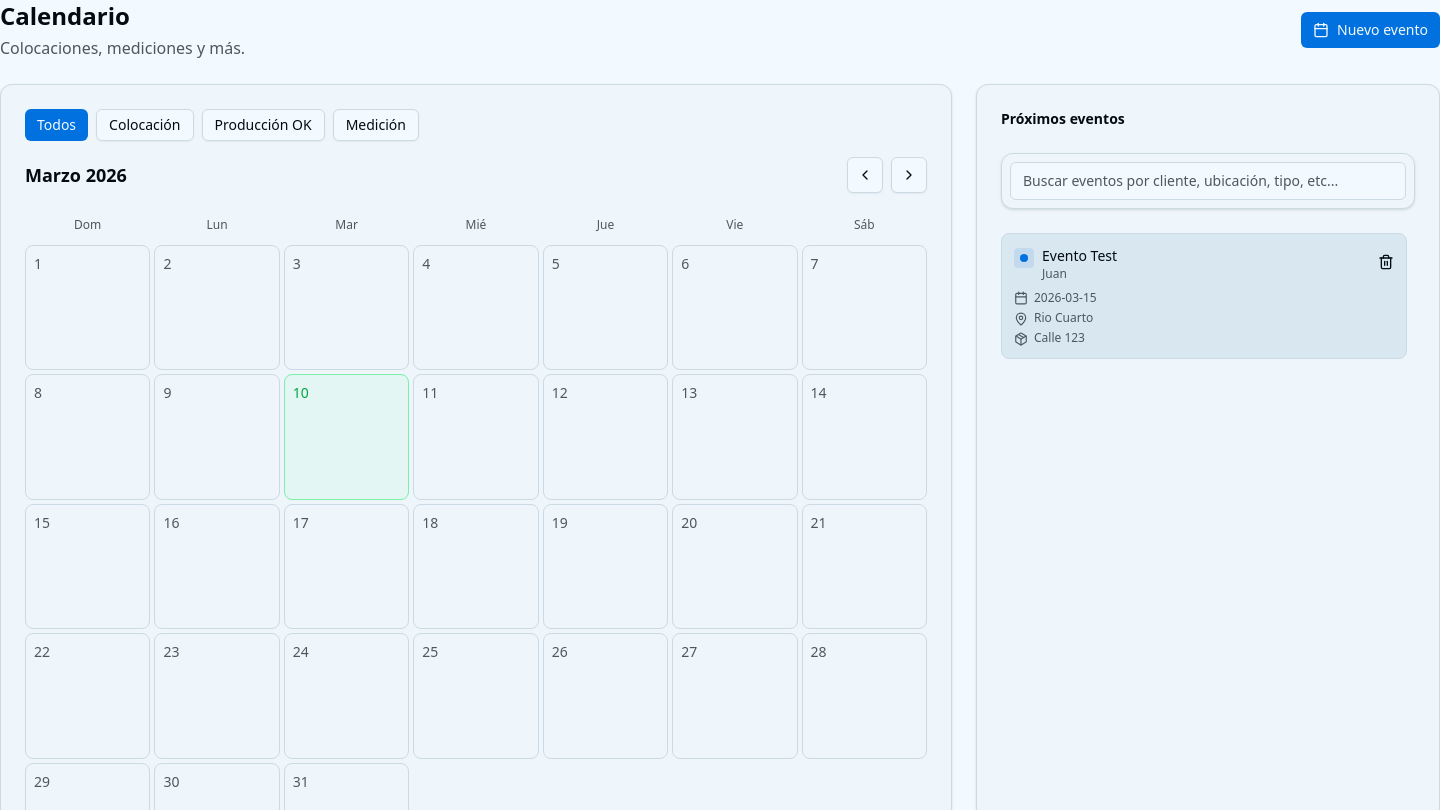
it: CalendarView › opens event details modal when clicking on event
Click the heading "Evento Test".
click(1080, 256)  # box [1042,246,1117,266]
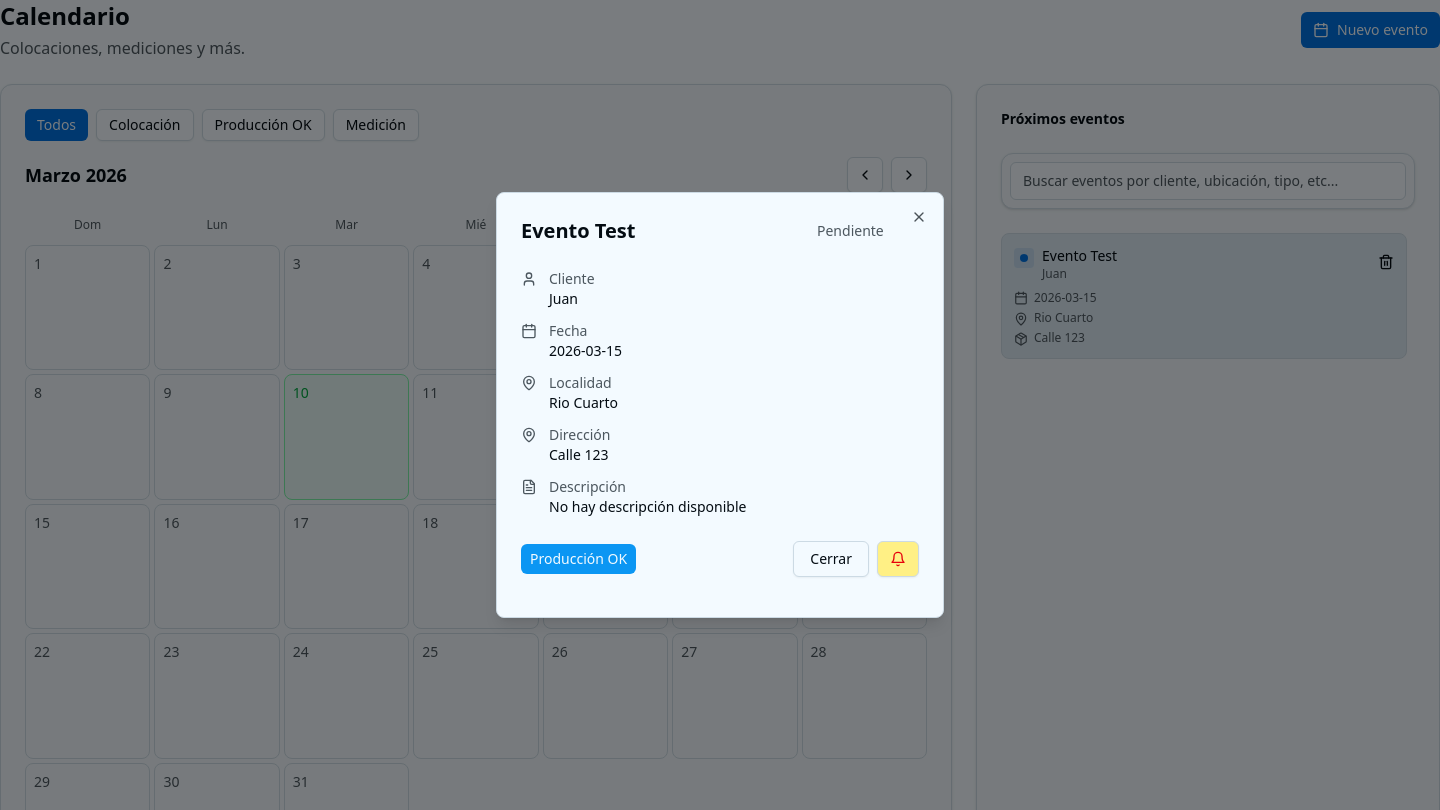
Now the button "Cerrar" is shown, box [793,541,869,577]
